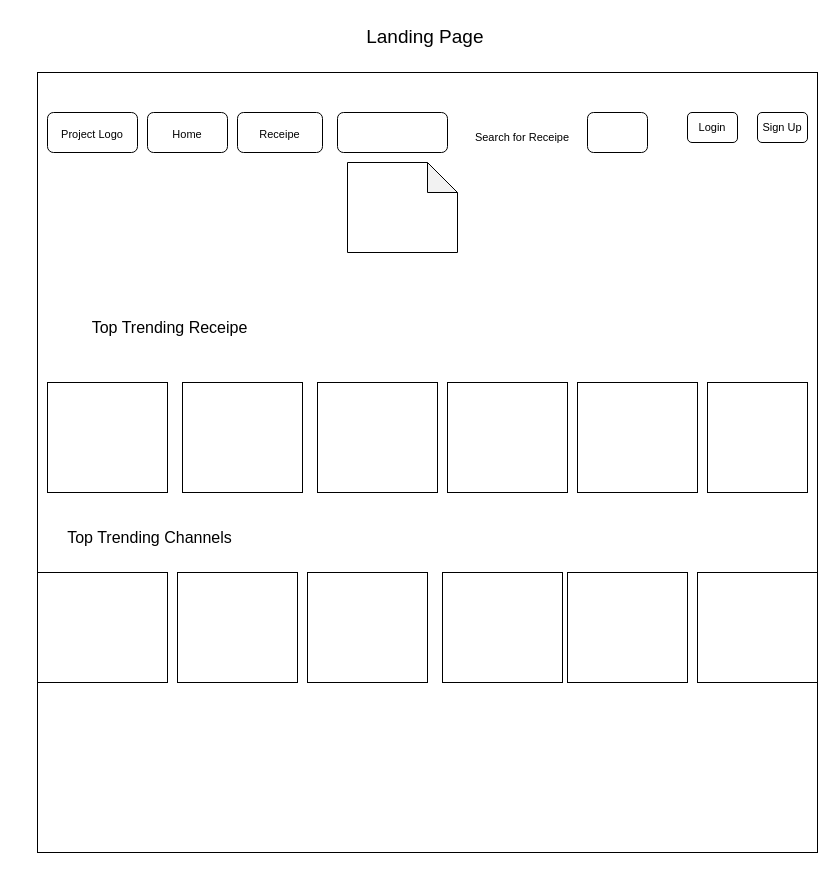
This 835x870 diagram has some shape labels left out. Each missing label, with the centre of its shape:
Receipe by Profile: (x=392, y=132)
Receipr by profile will be Dropdown menu having various region receipe: (x=402, y=207)
Search: (x=617, y=132)
